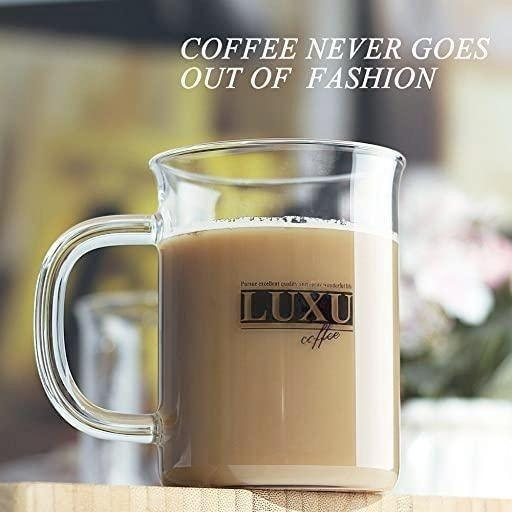glass-mug: (32, 135, 414, 502)
